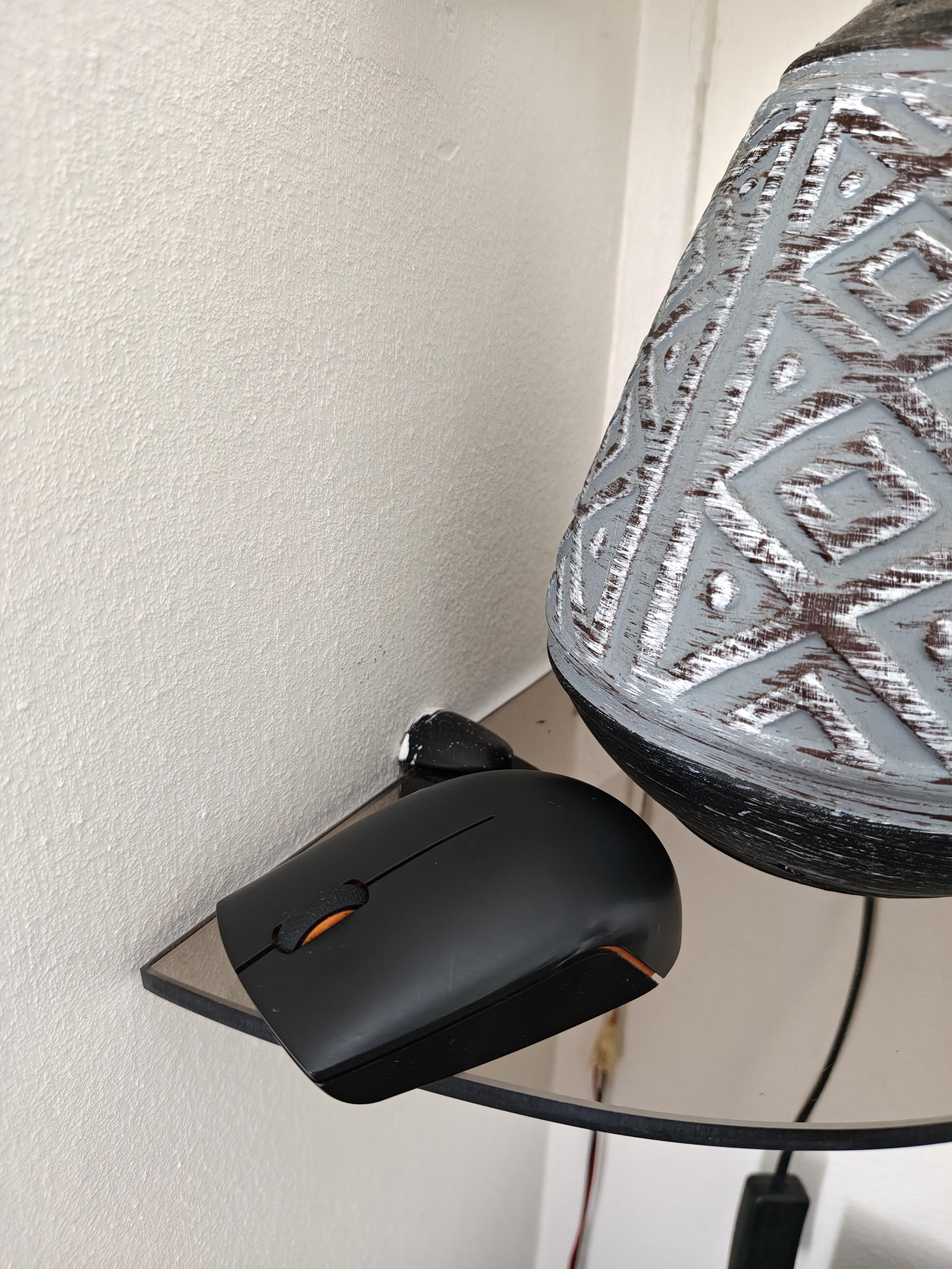mouse: (215, 768, 682, 1105)
